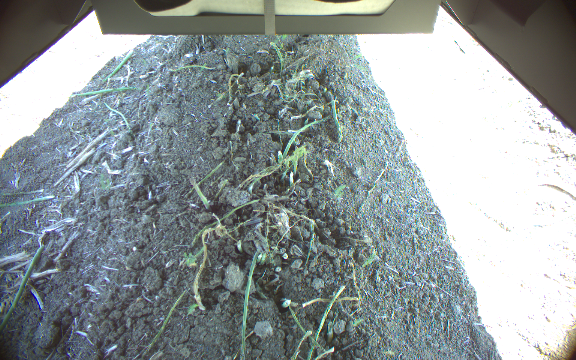aspa: (267, 41, 286, 69)
